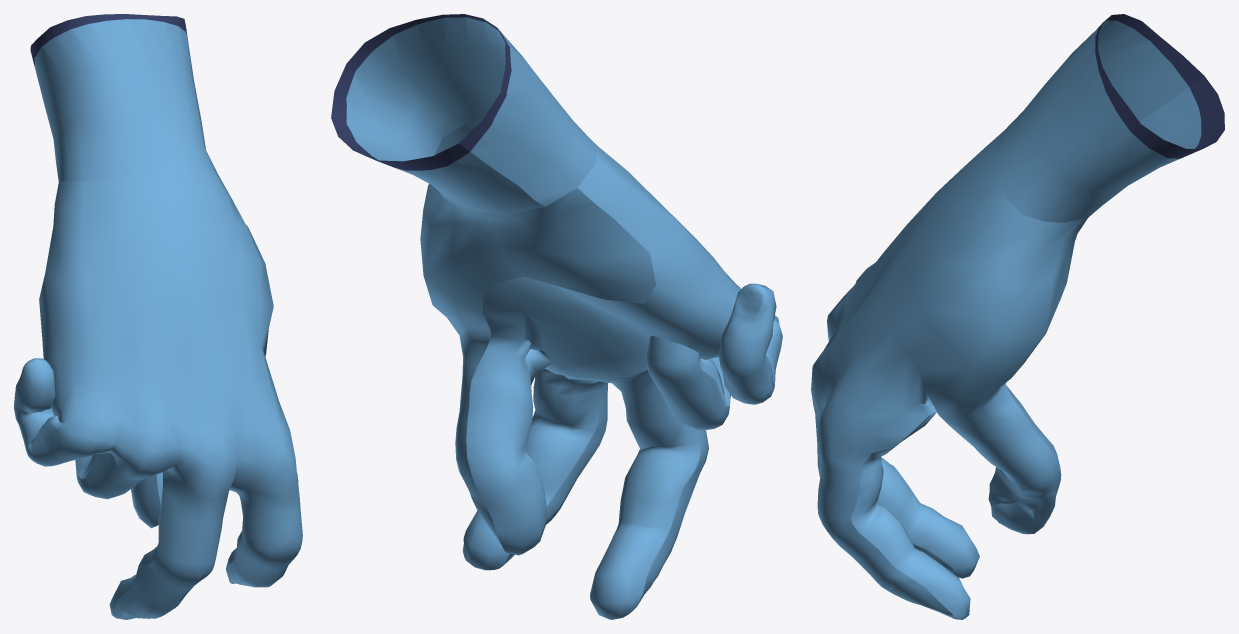
Rendered from mano_naloxona.glb.
3 renders of one model, left to right at view 1: azimuth 30°, elevation 25°; view 2: azimuth 150°, elevation 25°; view 3: azimuth 270°, elevation 25°, orthographic. The views are drawn at different scales.
Parts seen in each view (by area): view 1: Mano_naloxona; view 2: Mano_naloxona; view 3: Mano_naloxona.
Part boxes in pixels (x1,y1,x2,y2): Mano_naloxona: [14, 14, 302, 619]; Mano_naloxona: [331, 14, 782, 619]; Mano_naloxona: [811, 14, 1224, 619].
Bounding box in the file's own units: 0.107 × 0.2089 × 0.1365.
